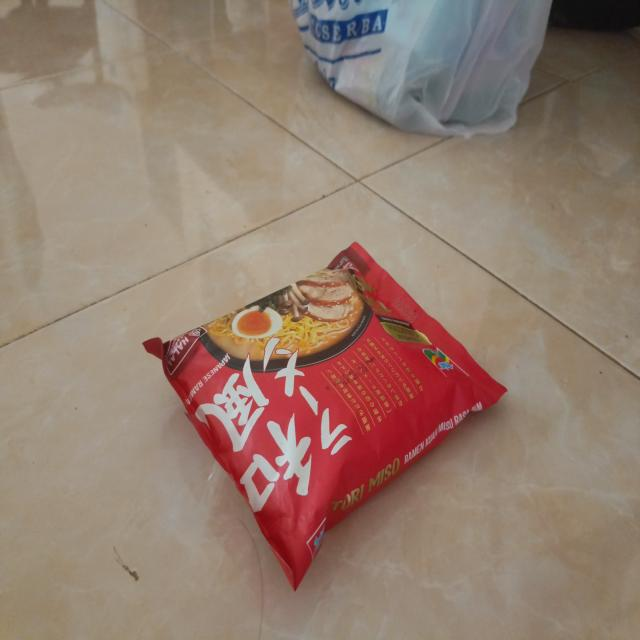indomie-tori-miso: (140, 242, 510, 592)
